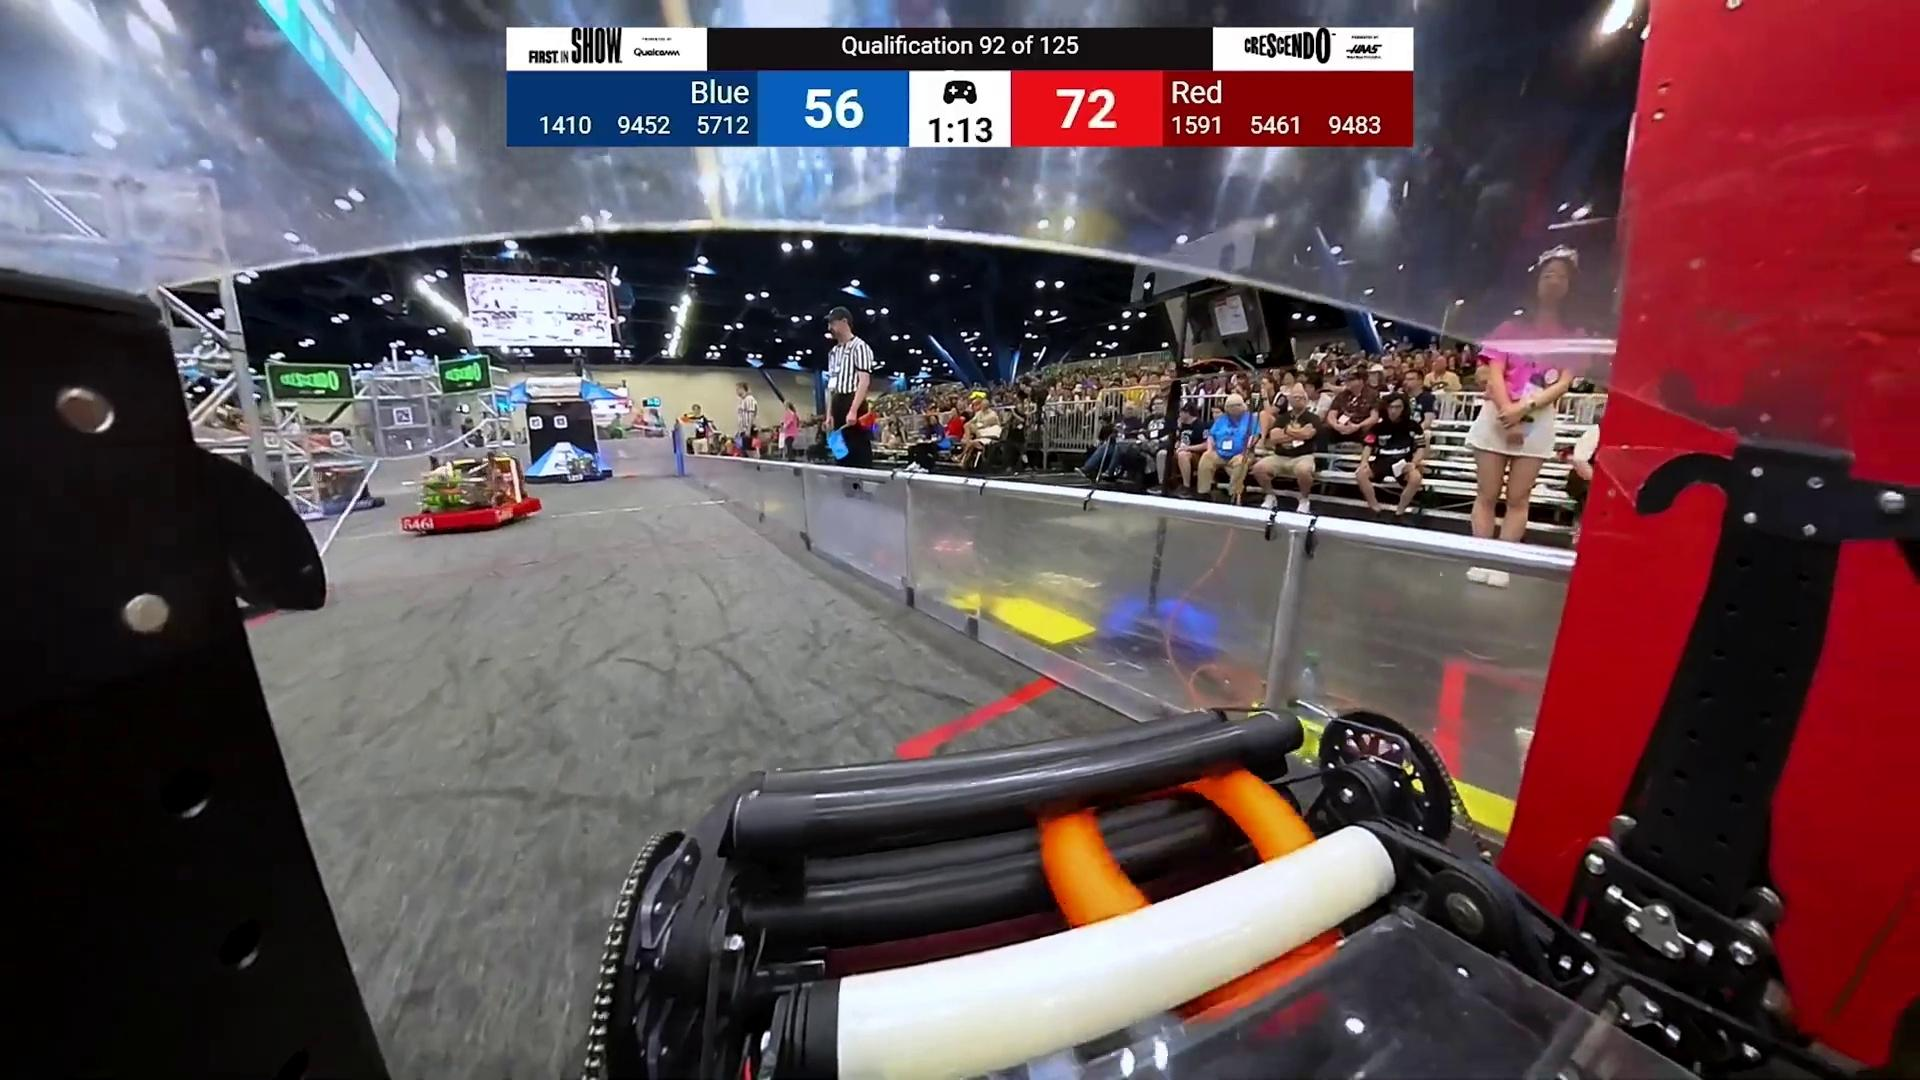robot: (401, 450, 542, 535), (297, 465, 385, 514), (559, 451, 605, 484)
